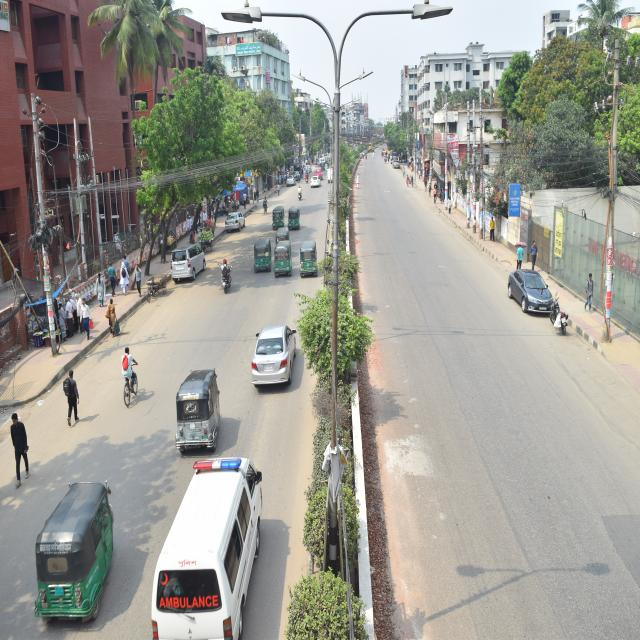car: (246, 315, 306, 402), (509, 255, 557, 324), (223, 208, 247, 234), (309, 171, 325, 191)
microbus: (152, 446, 278, 640), (169, 240, 209, 284)
motorbike: (217, 254, 241, 310), (548, 294, 572, 338), (296, 185, 304, 203)
